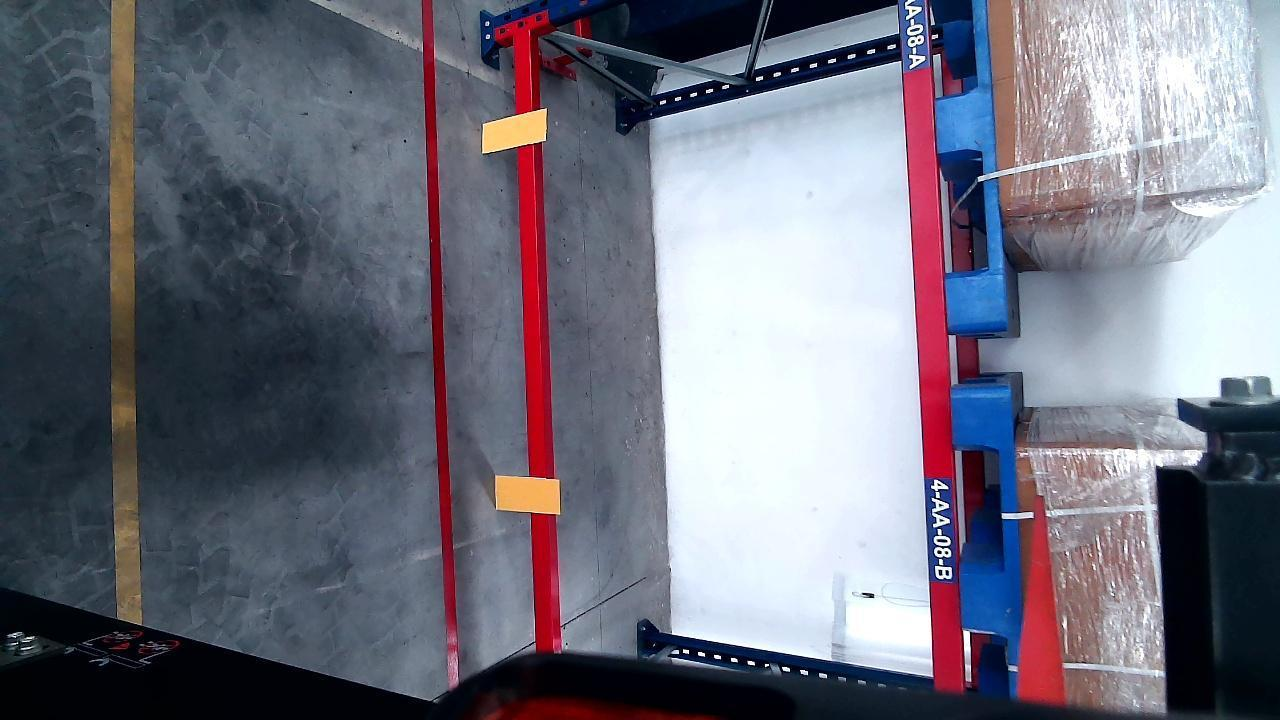h_rack: (898, 1, 963, 680), (511, 23, 562, 651)
orange_strip: (480, 109, 546, 153), (494, 474, 559, 514)
red_line: (422, 3, 456, 676)
small_pallet: (930, 0, 1006, 330), (957, 386, 1023, 692)
yellow_line: (107, 5, 141, 625)
